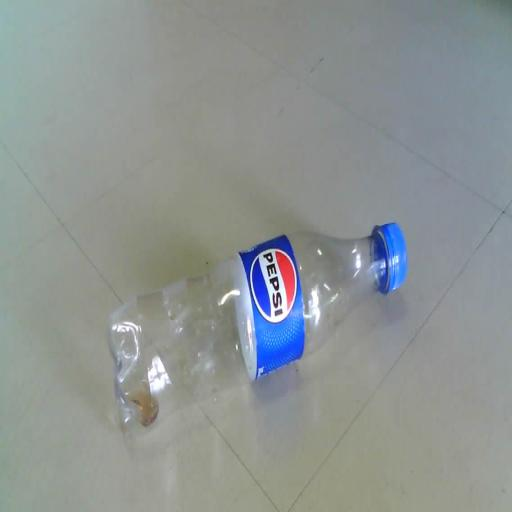bottle: (82, 198, 417, 446)
